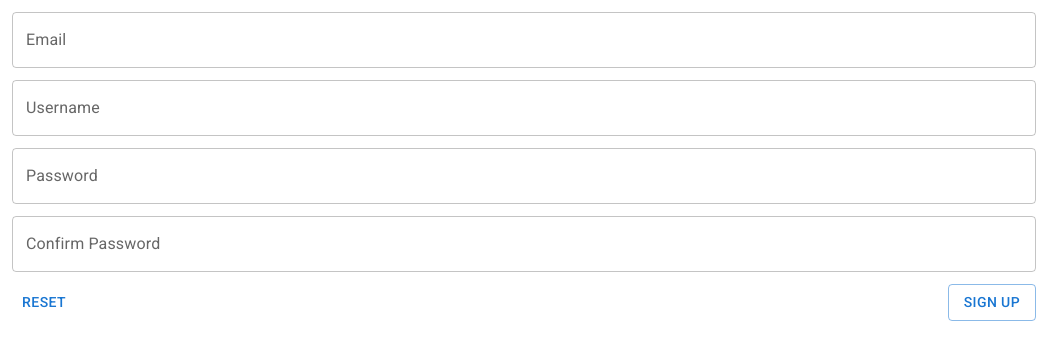
Register Component › clears input fields when reset button is clicked
In the field labelled "Email": (524, 40) top-left (12, 12), bottom-right (1036, 68), type "test@example.com"
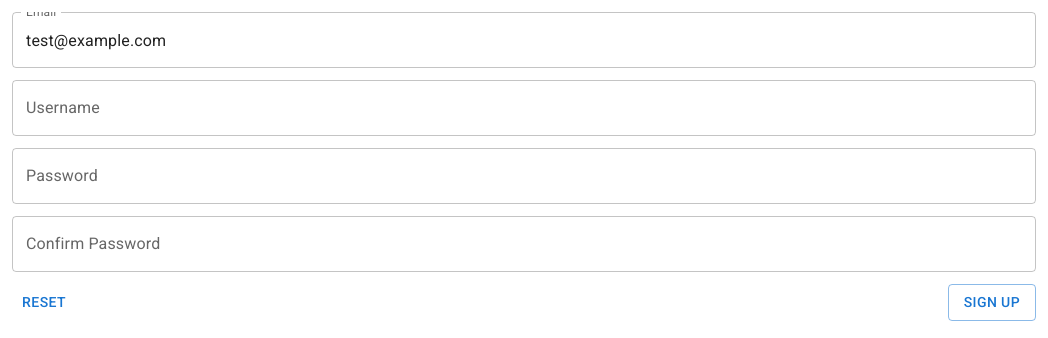
In the field labelled "Username": (524, 108) top-left (12, 80), bottom-right (1036, 136), type "testuser"
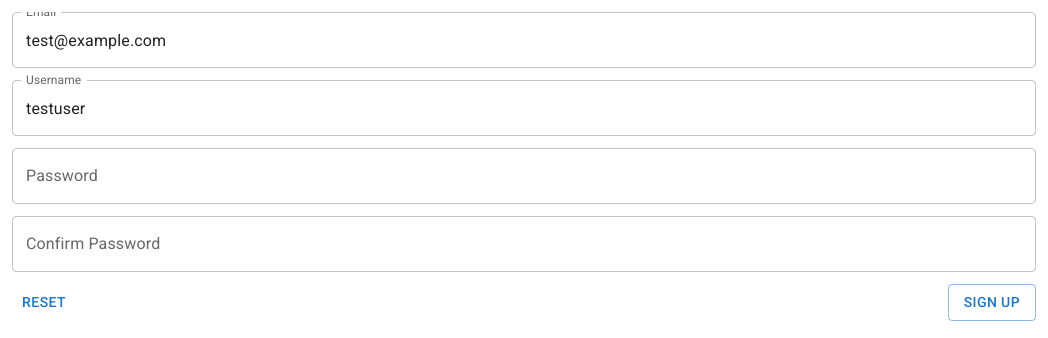
In the password field labelled "Password": (524, 176) top-left (12, 148), bottom-right (1036, 204), type "password123"
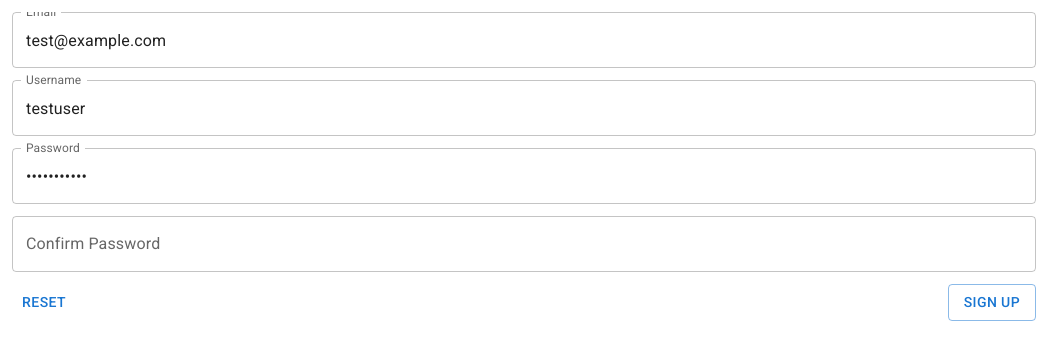
In the password field labelled "Confirm Password": (524, 244) top-left (12, 216), bottom-right (1036, 272), type "password123"
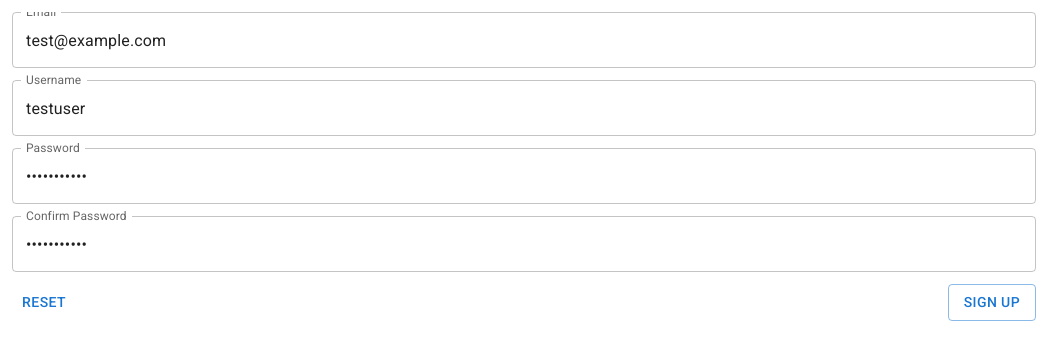
Click reset button
Click the button "Reset": click(44, 302) top-left (12, 284), bottom-right (76, 320)
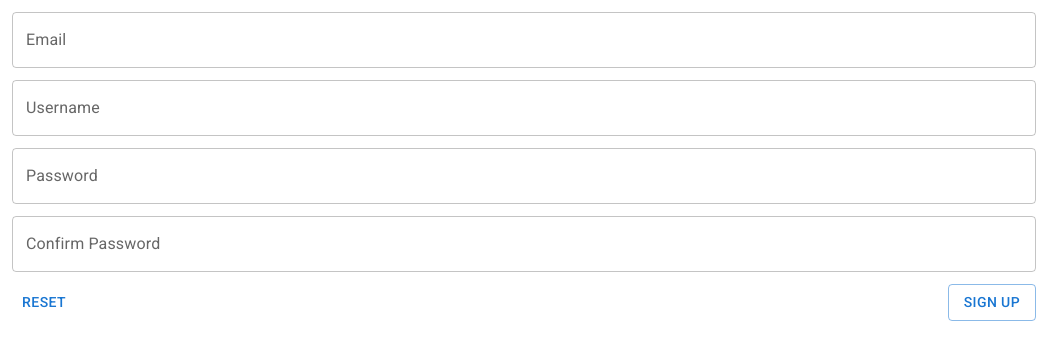
Check: the field labelled "Email" is empty, box top-left (12, 12), bottom-right (1036, 68)
Check: the field labelled "Username" is empty, box top-left (12, 80), bottom-right (1036, 136)
Check: the password field labelled "Password" is empty, box top-left (12, 148), bottom-right (1036, 204)
